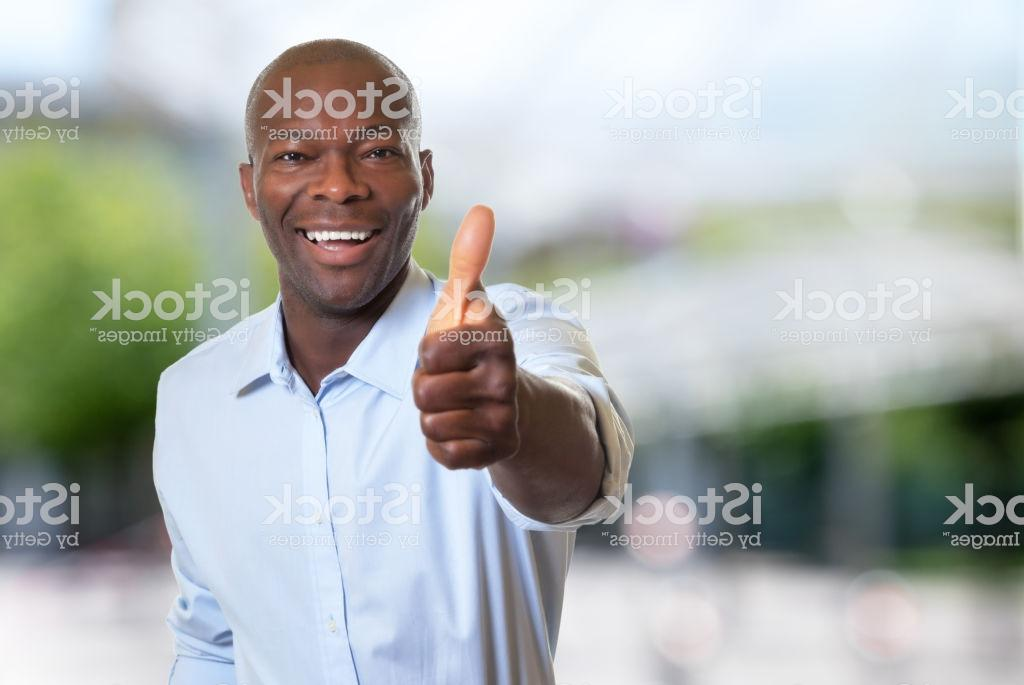thumbsup: (408, 203, 521, 472)
